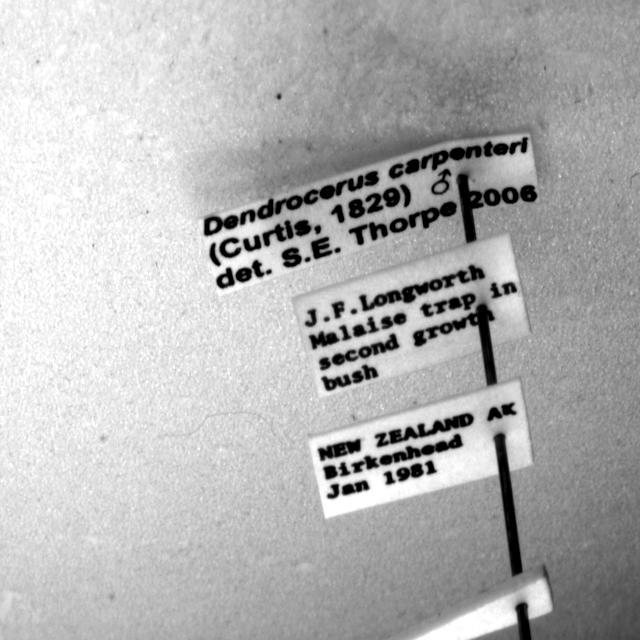typed_label: (200, 133, 539, 291), (294, 234, 530, 396), (309, 381, 532, 518)
